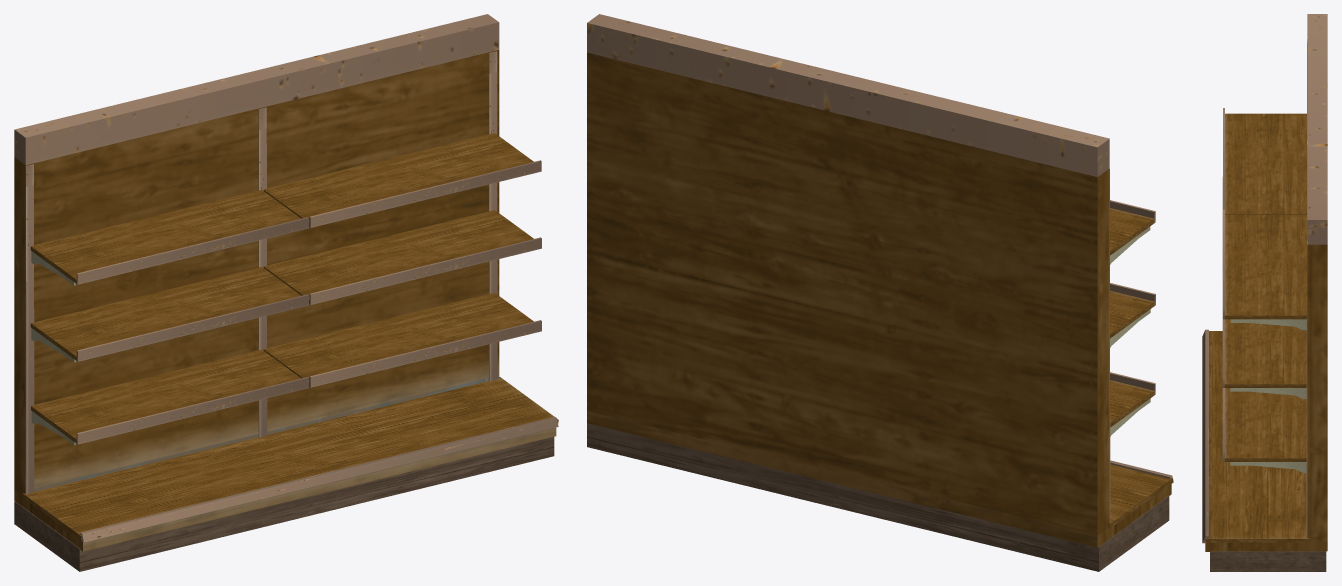
Rendered from convshelf2a.fbx.
The picture shows the model from 3 angles, left to right: view 1: azimuth 30°, elevation 25°; view 2: azimuth 150°, elevation 25°; view 3: azimuth 270°, elevation 25°; orthographic projection. The views are drawn at different scales.
Parts seen in each view (by area): view 1: convshelf2a; view 2: convshelf2a; view 3: convshelf2a.
Part boxes in pixels (box(x1,y1,x2,y2)): convshelf2a: box(14, 14, 558, 571); convshelf2a: box(587, 14, 1173, 571); convshelf2a: box(1202, 14, 1327, 571).
Size of the model in its own units: 240 by 189 by 61.03.
